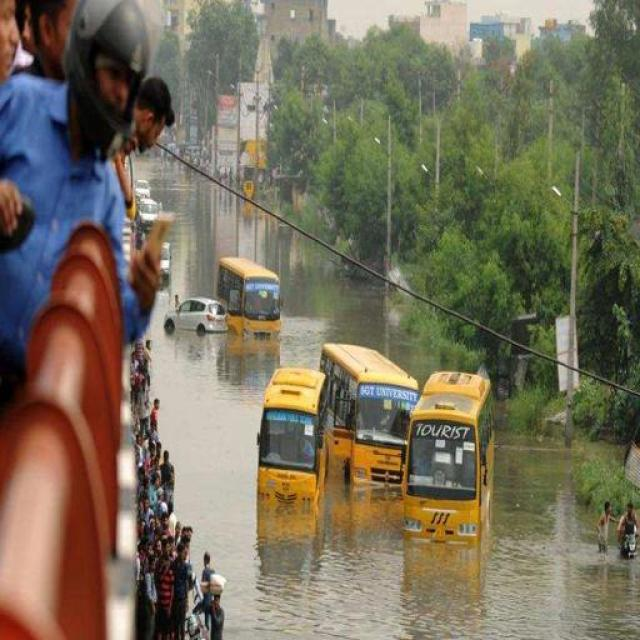puddle: (383, 547, 640, 640), (225, 524, 399, 640), (160, 349, 254, 534), (501, 442, 572, 583), (282, 214, 352, 325), (165, 177, 264, 253), (330, 277, 416, 338)
